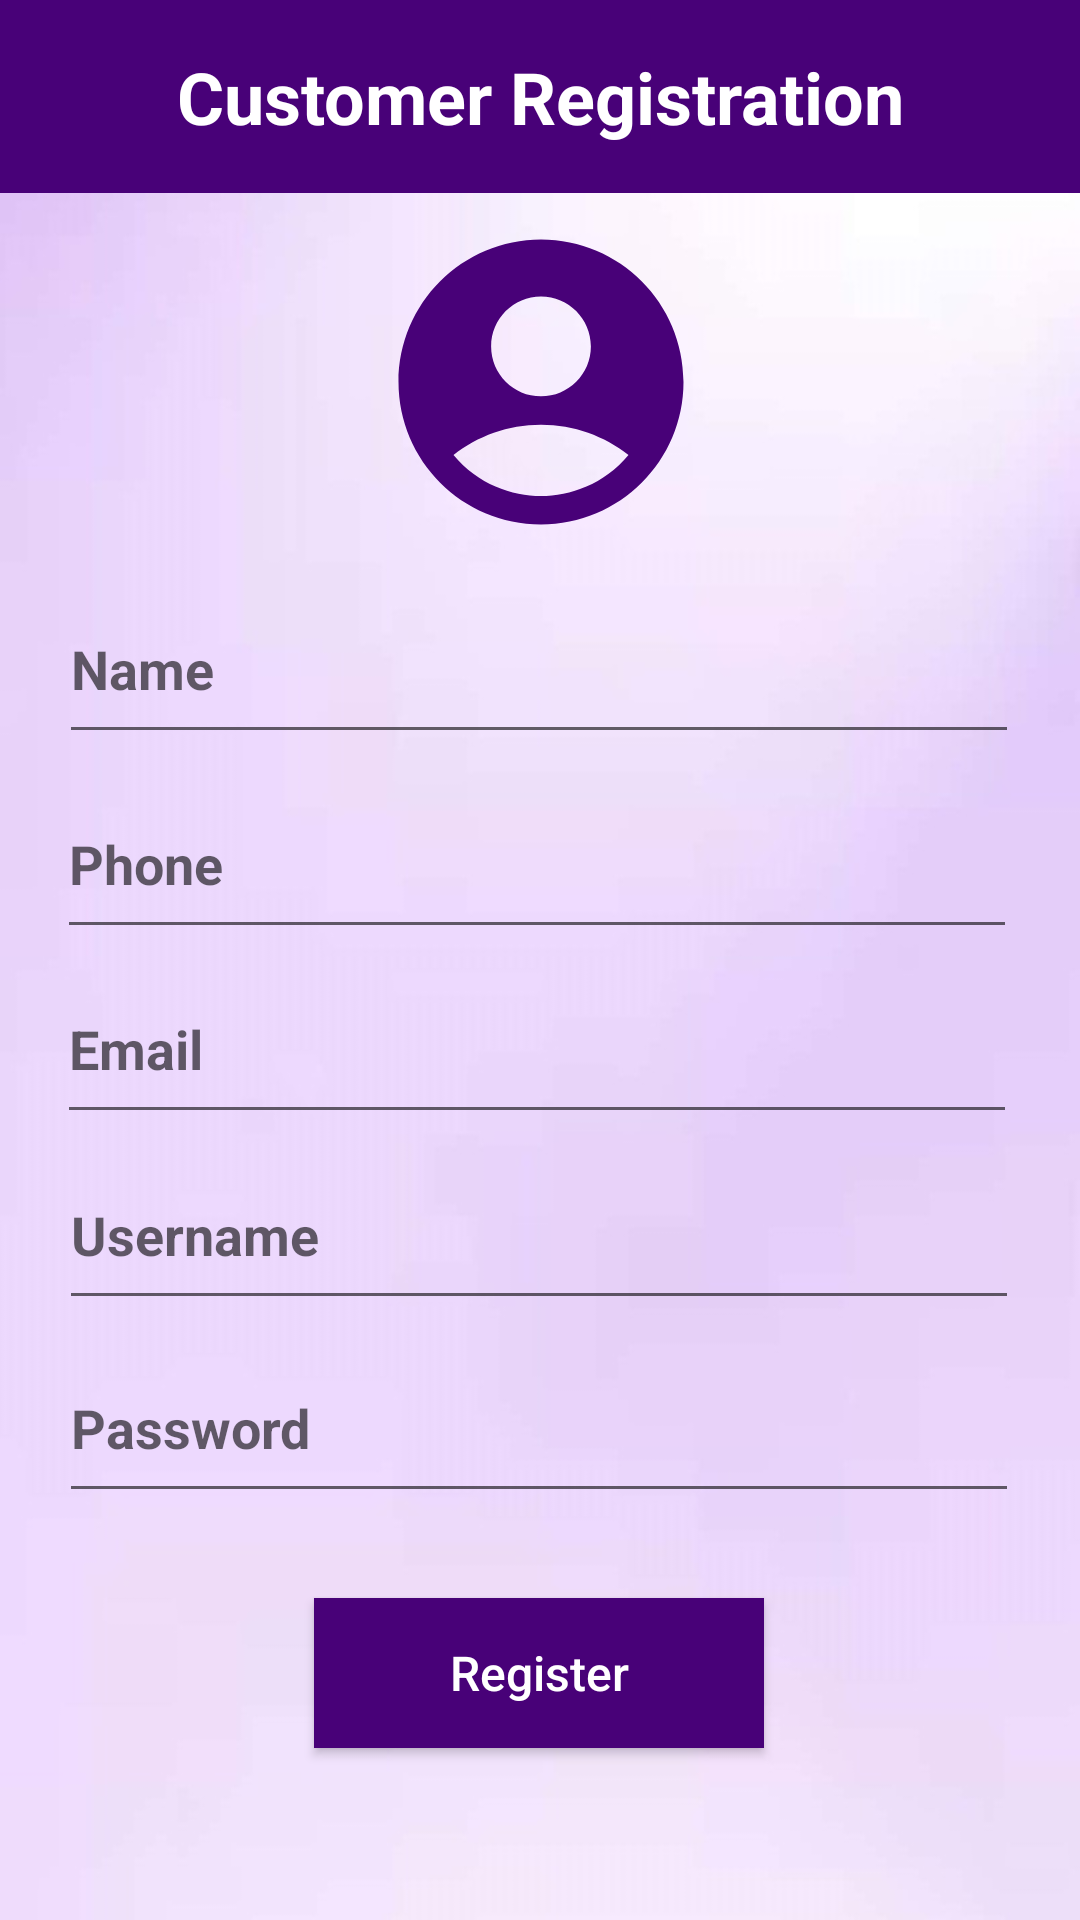

Screen size 1080 x 1920. Icon name, then its center in pixels as (x=x, y=y):
account circle: (x=541, y=382)
